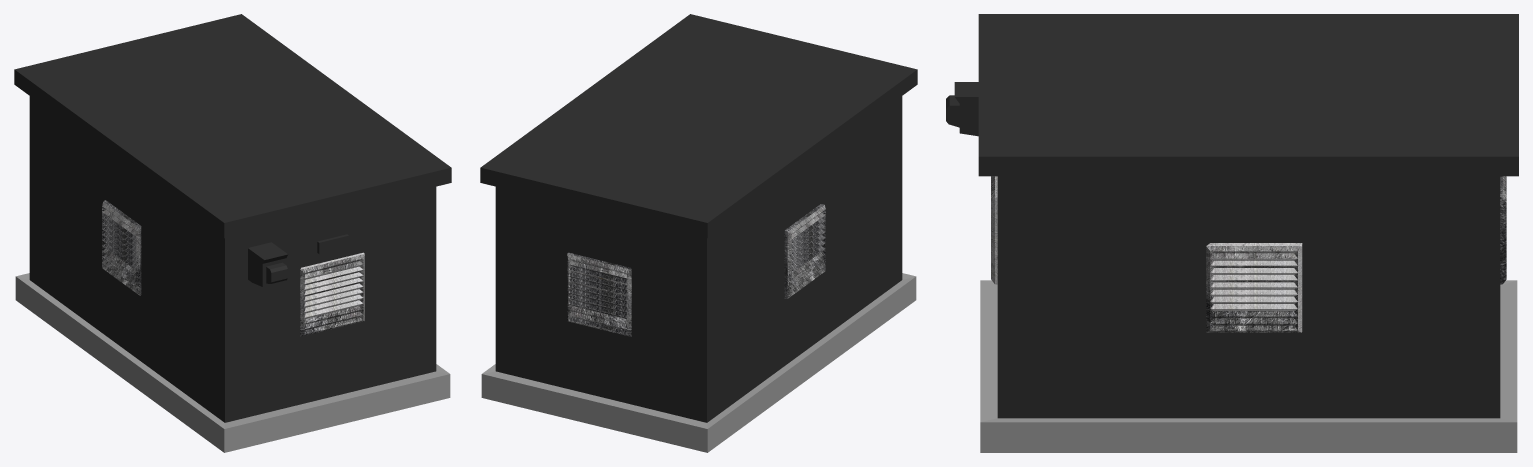
Rendered from generatorbox.fbx.
The picture shows the model from 3 angles, left to right: view 1: azimuth 30°, elevation 25°; view 2: azimuth 150°, elevation 25°; view 3: azimuth 270°, elevation 25°; orthographic projection. The views are drawn at different scales.
Visible parts, largest first — view 1: GeneratorBox, vents, Cube.001, Cube.002; view 2: GeneratorBox, vents; view 3: GeneratorBox, vents, Cube.001.
Part boxes in pixels (<box>): GeneratorBox: <box>14,14,451,452</box>; vents: <box>102,200,364,336</box>; Cube.001: <box>248,242,287,286</box>; Cube.002: <box>317,234,348,254</box>; GeneratorBox: <box>480,14,917,452</box>; vents: <box>567,204,825,336</box>; GeneratorBox: <box>978,14,1518,452</box>; vents: <box>991,176,1506,332</box>; Cube.001: <box>946,82,978,136</box>.
Bounding box in the file's own units: 85.76 × 83.16 × 146.
